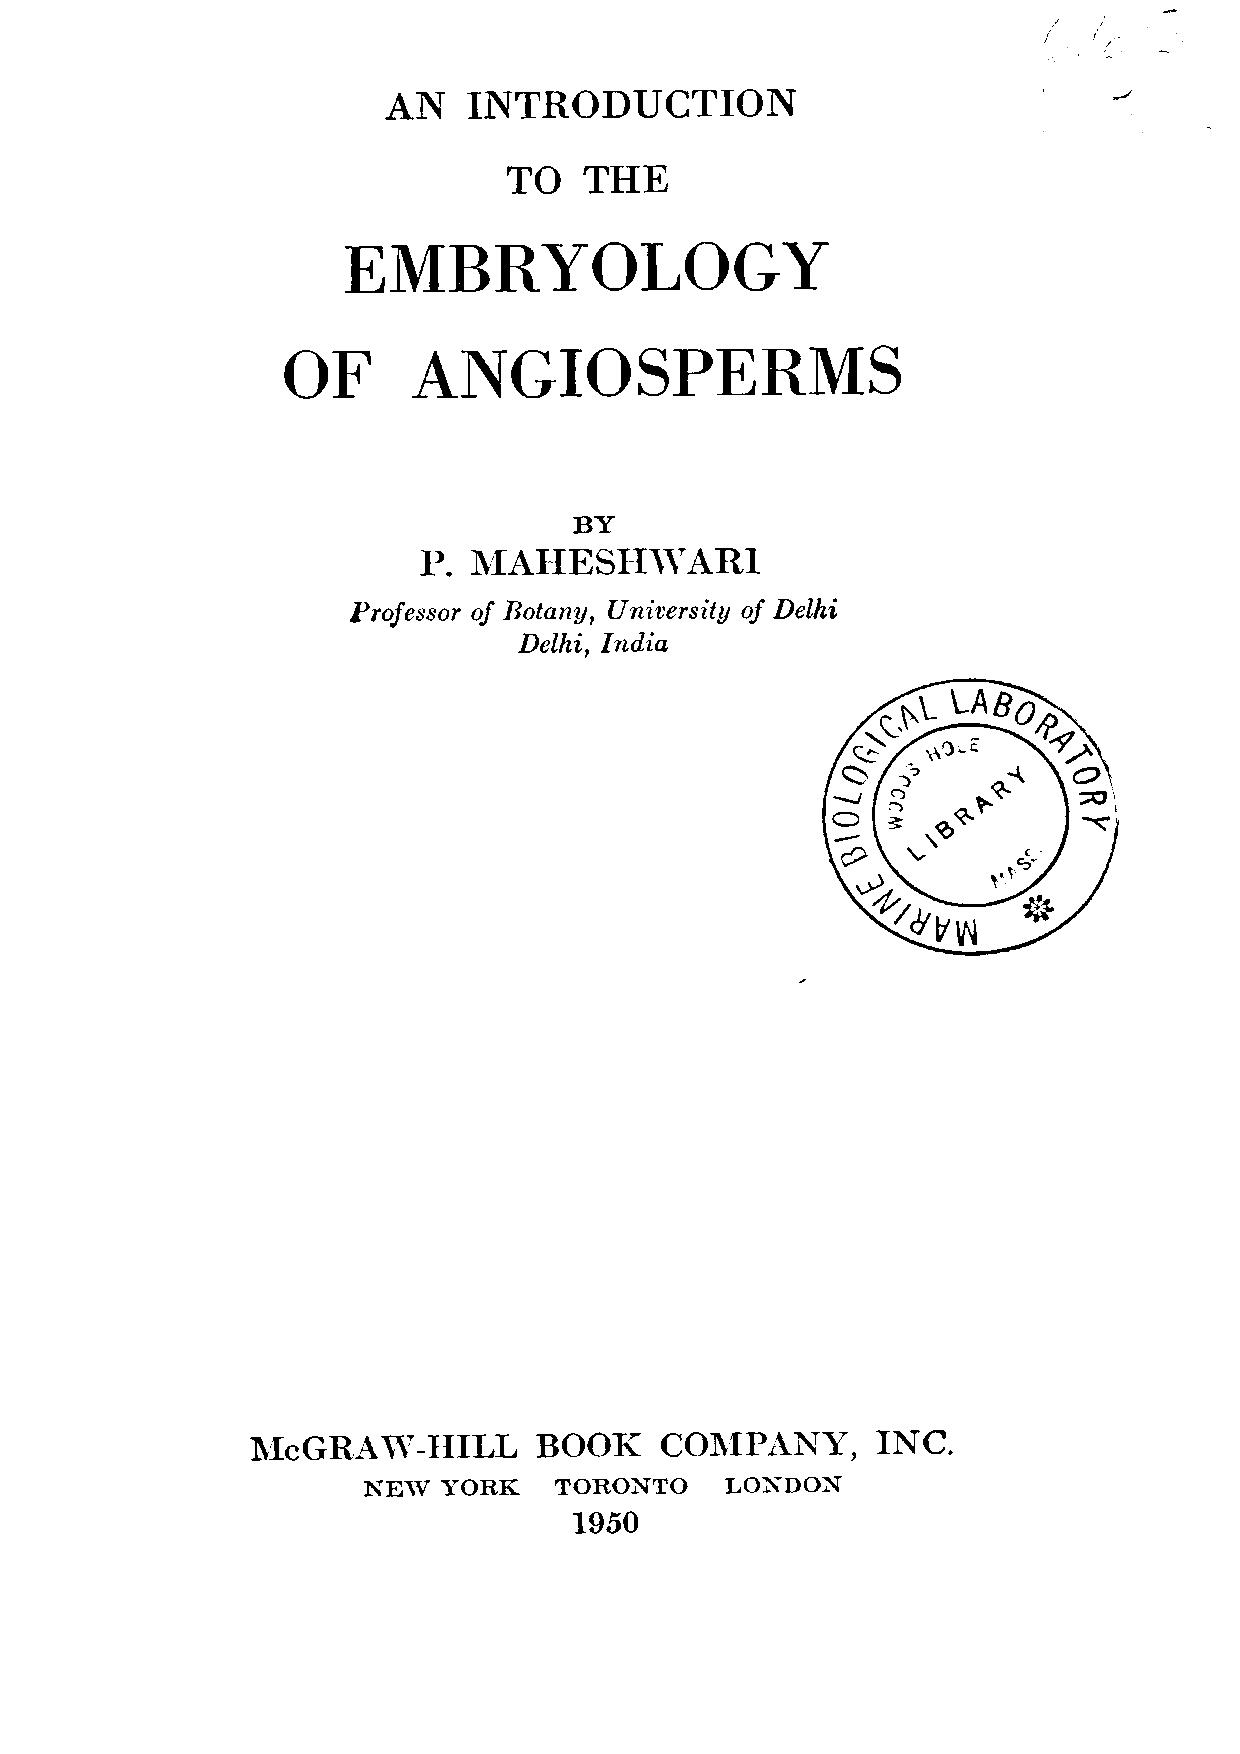author: (413, 511, 761, 582)
title: (278, 85, 902, 403)
